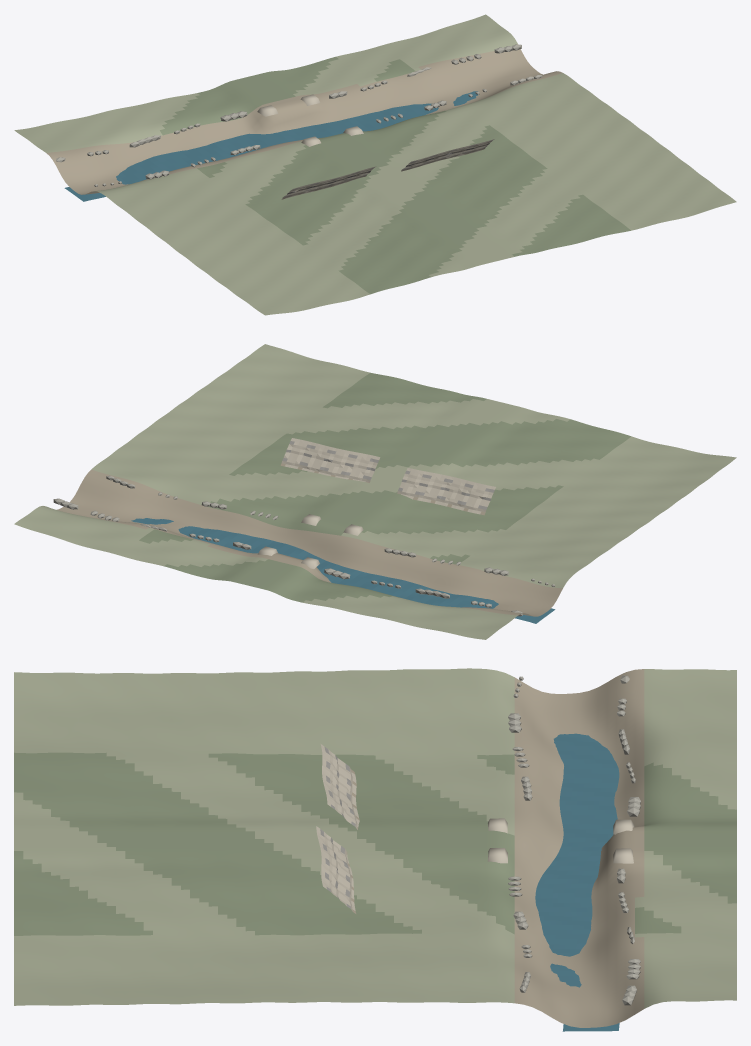
Rendered from ValoriaTerrainRiverCliffV3.glb.
3 views of the same model, one above another, from view 1: azimuth 30°, elevation 25°; view 2: azimuth 150°, elevation 25°; view 3: azimuth 270°, elevation 25° (orthographic). The views are drawn at different scales.
Visible parts, largest first — view 1: V3_V2_VALORIA_LOWER_REAL_TERRAIN_NATIVE_HEIGHTFIELD, V3_V2_VALORIA_RIVER_CONTINUOUS_RIPPLED_WATER, V3_V2_VALORIA_RIVERBANK_AUTHOR_ROCKS, VALORIA_V3_IRREGULAR_RETERRACED_CLIFF_-1, VALORIA_V3_IRREGULAR_RETERRACED_CLIFF_1; view 2: V3_V2_VALORIA_LOWER_REAL_TERRAIN_NATIVE_HEIGHTFIELD, V3_V2_VALORIA_RIVER_CONTINUOUS_RIPPLED_WATER, VALORIA_V3_IRREGULAR_RETERRACED_CLIFF_-1, VALORIA_V3_IRREGULAR_RETERRACED_CLIFF_1, V3_V2_VALORIA_RIVERBANK_AUTHOR_ROCKS; view 3: V3_V2_VALORIA_LOWER_REAL_TERRAIN_NATIVE_HEIGHTFIELD, V3_V2_VALORIA_RIVER_CONTINUOUS_RIPPLED_WATER, V3_V2_VALORIA_RIVERBANK_AUTHOR_ROCKS, VALORIA_V3_IRREGULAR_RETERRACED_CLIFF_-1, VALORIA_V3_IRREGULAR_RETERRACED_CLIFF_1.
Part boxes in pixels (bbox=[...]): V3_V2_VALORIA_LOWER_REAL_TERRAIN_NATIVE_HEIGHTFIELD: bbox=[14, 14, 736, 315]; V3_V2_VALORIA_RIVER_CONTINUOUS_RIPPLED_WATER: bbox=[64, 91, 477, 201]; V3_V2_VALORIA_RIVERBANK_AUTHOR_ROCKS: bbox=[56, 44, 542, 186]; VALORIA_V3_IRREGULAR_RETERRACED_CLIFF_-1: bbox=[281, 166, 376, 199]; VALORIA_V3_IRREGULAR_RETERRACED_CLIFF_1: bbox=[401, 139, 494, 171]; V3_V2_VALORIA_LOWER_REAL_TERRAIN_NATIVE_HEIGHTFIELD: bbox=[14, 344, 736, 639]; V3_V2_VALORIA_RIVER_CONTINUOUS_RIPPLED_WATER: bbox=[131, 518, 555, 623]; VALORIA_V3_IRREGULAR_RETERRACED_CLIFF_-1: bbox=[397, 467, 495, 515]; VALORIA_V3_IRREGULAR_RETERRACED_CLIFF_1: bbox=[280, 438, 380, 482]; V3_V2_VALORIA_RIVERBANK_AUTHOR_ROCKS: bbox=[53, 475, 555, 616]; V3_V2_VALORIA_LOWER_REAL_TERRAIN_NATIVE_HEIGHTFIELD: bbox=[14, 668, 736, 1027]; V3_V2_VALORIA_RIVER_CONTINUOUS_RIPPLED_WATER: bbox=[535, 733, 619, 1031]; V3_V2_VALORIA_RIVERBANK_AUTHOR_ROCKS: bbox=[508, 675, 640, 1005]; VALORIA_V3_IRREGULAR_RETERRACED_CLIFF_-1: bbox=[320, 744, 359, 829]; VALORIA_V3_IRREGULAR_RETERRACED_CLIFF_1: bbox=[316, 826, 356, 913].
Size of the model in its own units: 64 by 5.12 by 59.
